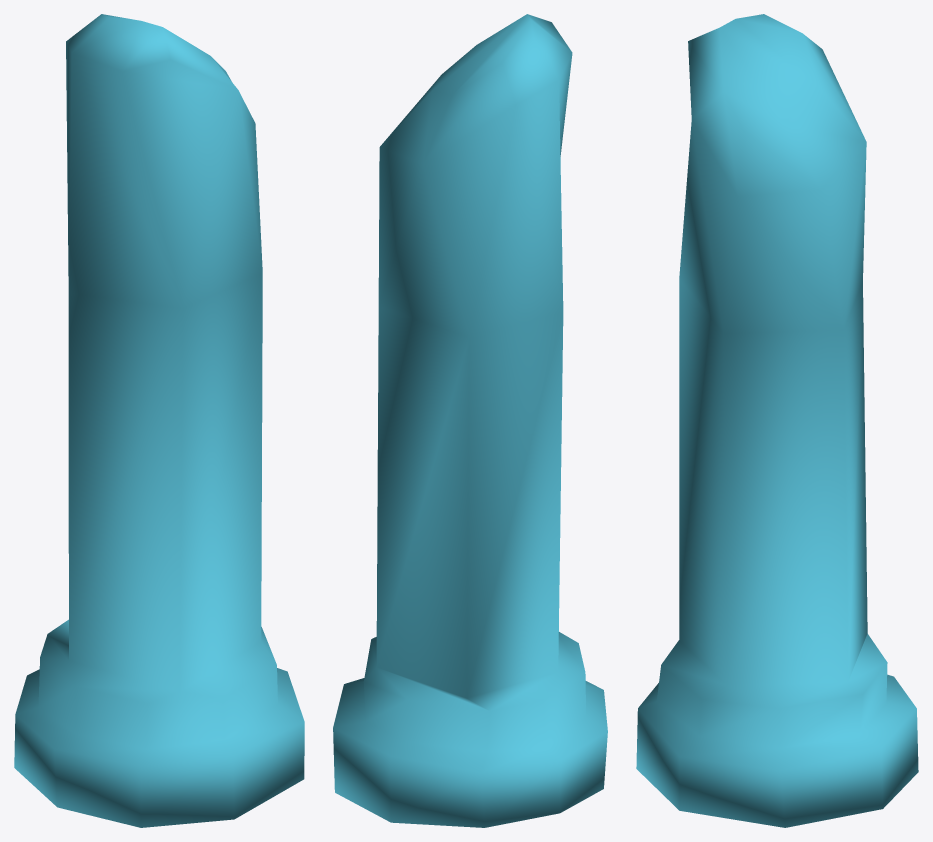
File: column_04.FBX
3 views of the same model, side by side, from view 1: azimuth 30°, elevation 25°; view 2: azimuth 150°, elevation 25°; view 3: azimuth 270°, elevation 25° (orthographic). The views are drawn at different scales.
Visible parts, largest first — view 1: column_04; view 2: column_04; view 3: column_04.
Boxes of the visible parts, x1,y1,x2,y2 form: column_04: (14, 14, 304, 827); column_04: (333, 14, 607, 827); column_04: (636, 14, 918, 827).
Bounding box in the file's own units: 38.37 × 113 × 39.04.
